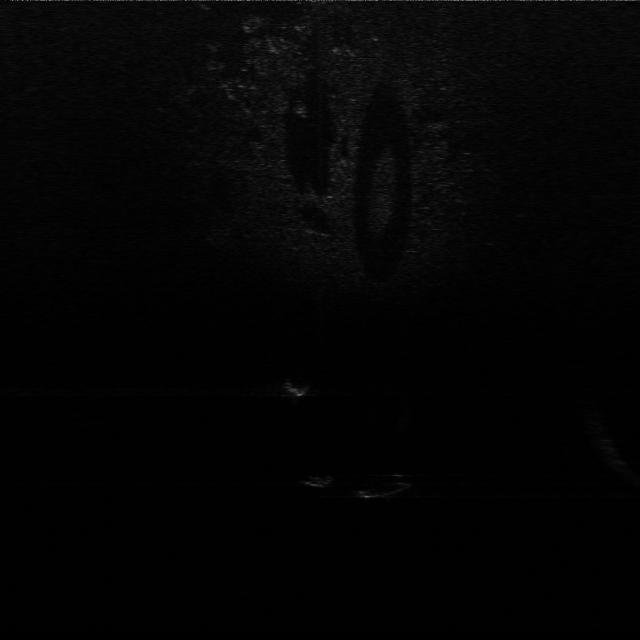cube: (300, 468, 336, 490)
square cage: (278, 373, 318, 400)
tyre: (353, 469, 419, 502)
